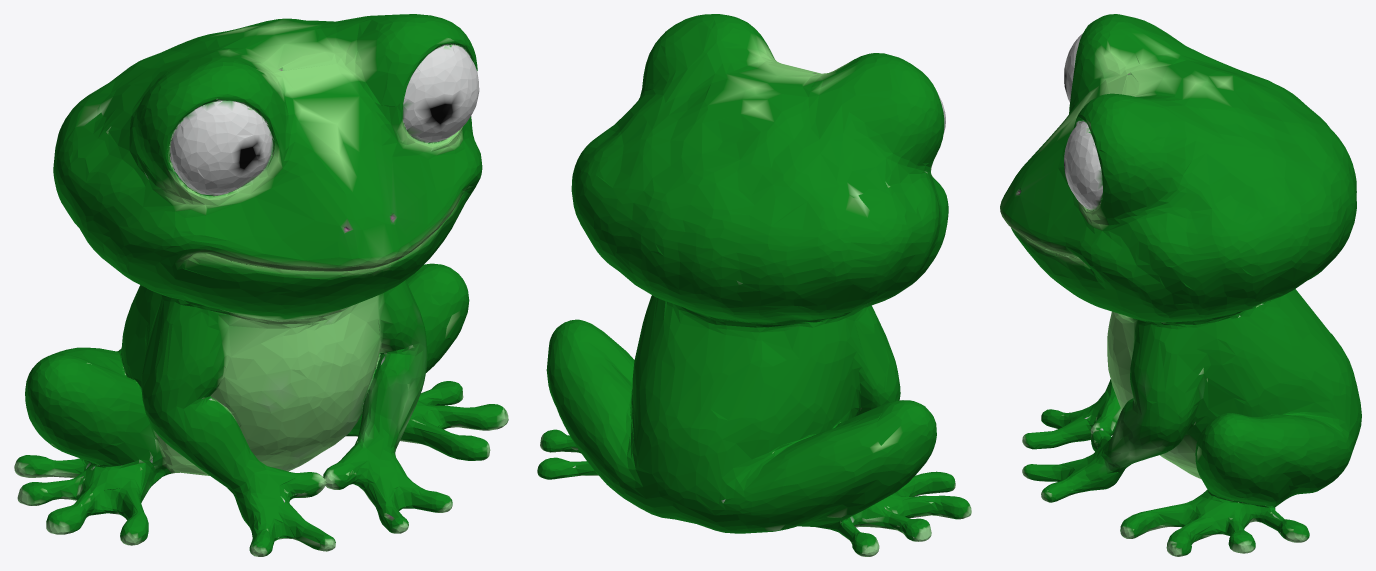
File: mrfrog.glb
3 views of the same model, side by side, from view 1: azimuth 30°, elevation 25°; view 2: azimuth 150°, elevation 25°; view 3: azimuth 270°, elevation 25° (orthographic). The views are drawn at different scales.
Visible parts, largest first — view 1: mesh_node; view 2: mesh_node; view 3: mesh_node.
Boxes of the visible parts, box(x1,y1,x2,y2) form: mesh_node: box(14, 14, 508, 556); mesh_node: box(537, 14, 971, 556); mesh_node: box(1000, 14, 1361, 556).
Size of the model in its own units: 1.9 by 1.84 by 1.49.
